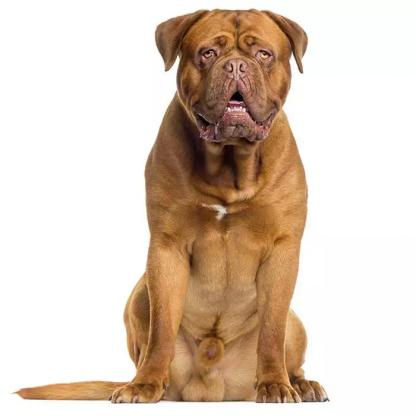Douge De Bordeaux: (11, 4, 332, 407)
